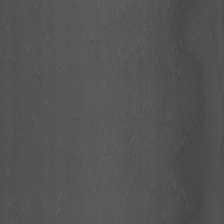silk_spot: (114, 32, 157, 169), (162, 31, 195, 168)
